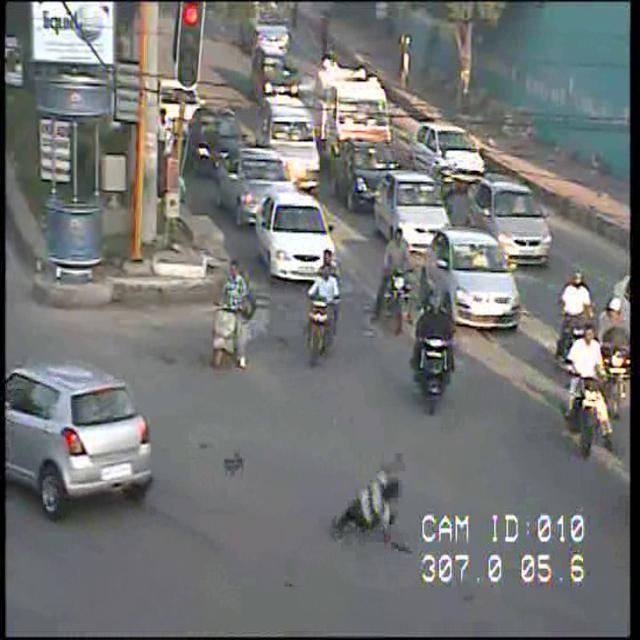accident: (8, 358, 414, 566)
